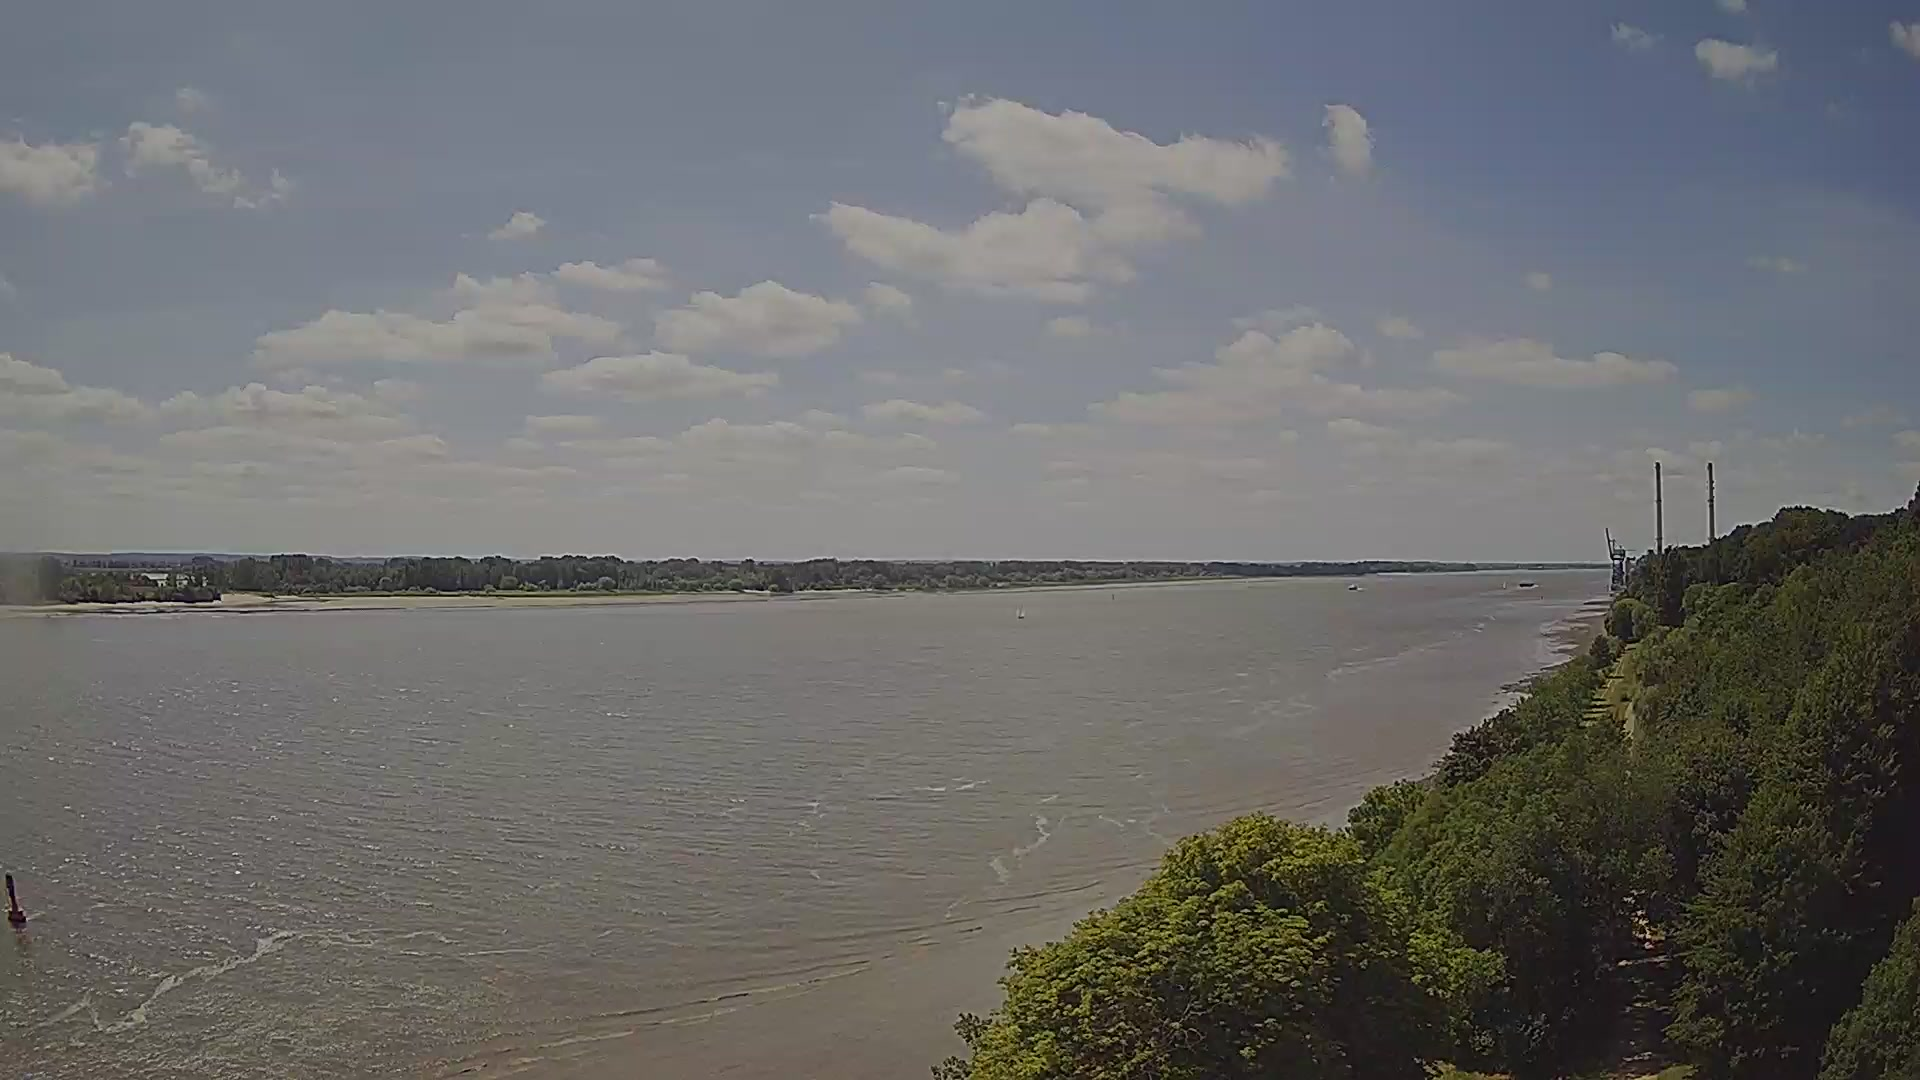sea: (1015, 600, 1025, 618), (1346, 582, 1360, 589), (1519, 582, 1535, 587), (1502, 580, 1507, 589)
